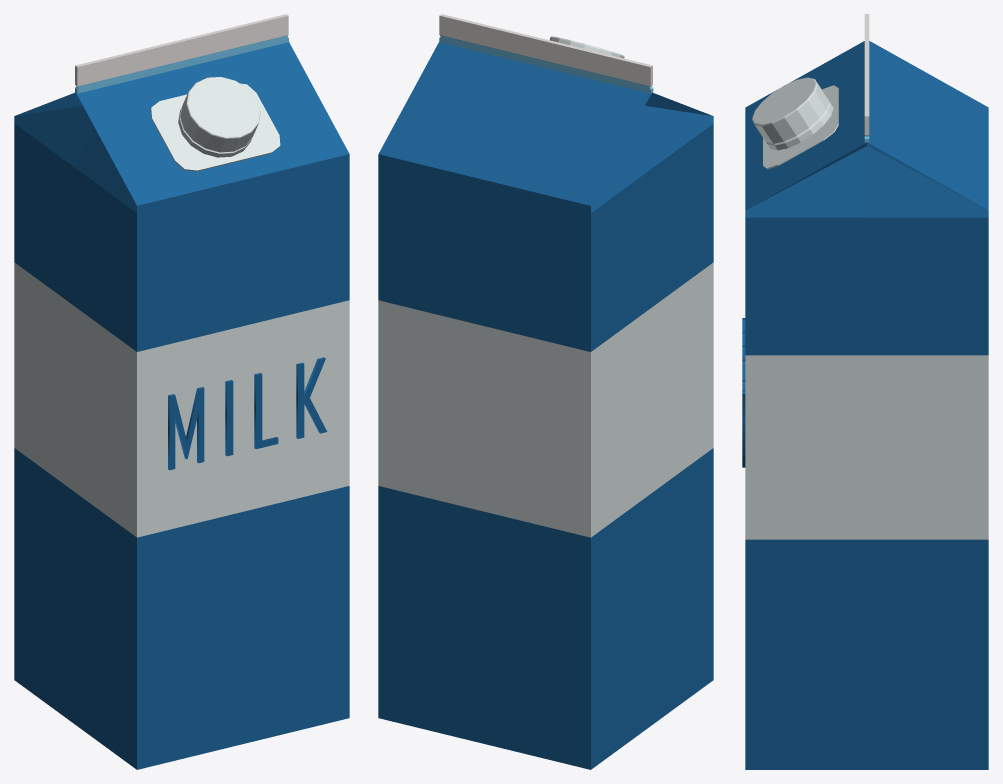
The model's file is milk.fbx.
3 views of the same model, side by side, from view 1: azimuth 30°, elevation 25°; view 2: azimuth 150°, elevation 25°; view 3: azimuth 270°, elevation 25° (orthographic).
Parts seen in each view (by area): view 1: Text; view 2: Text; view 3: Text.
Part boxes in pixels (x1,y1,x2,y2): Text: [14, 14, 349, 769]; Text: [378, 14, 713, 769]; Text: [742, 14, 988, 769].
Size of the model in its own units: 77.5 by 230 by 78.52.
